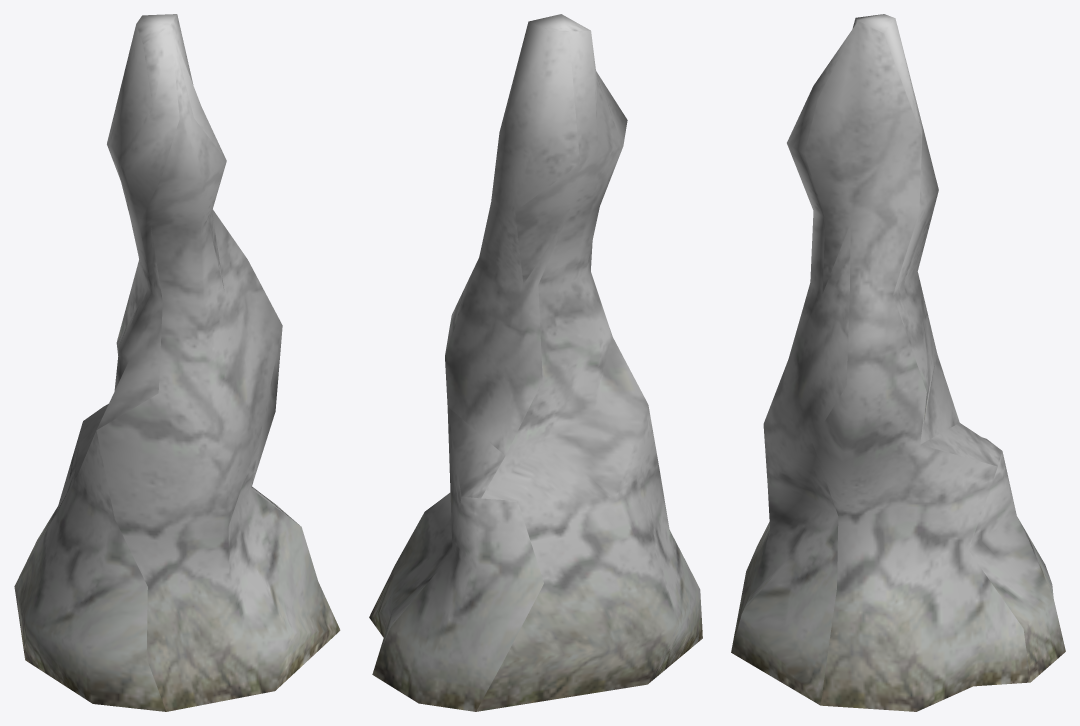
Rendered from general_obj_bigstone02.fbx.
3 renders of one model, left to right at view 1: azimuth 30°, elevation 25°; view 2: azimuth 150°, elevation 25°; view 3: azimuth 270°, elevation 25°, orthographic. The views are drawn at different scales.
Parts seen in each view (by area): view 1: Sphere01; view 2: Sphere01; view 3: Sphere01.
Boxes of the visible parts, x1,y1,x2,y2 form: Sphere01: [14, 14, 340, 711]; Sphere01: [369, 14, 702, 711]; Sphere01: [731, 14, 1065, 711].
Bounding box in the file's own units: 21.02 × 42.85 × 21.23.
